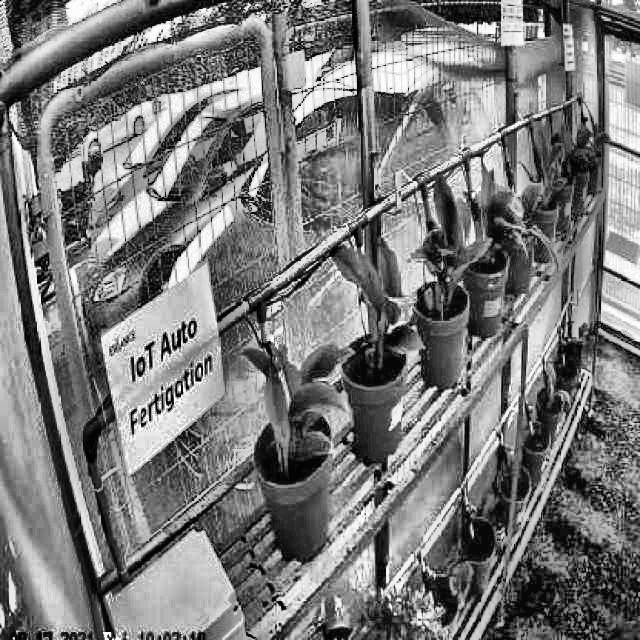plants: (241, 334, 345, 468), (331, 235, 424, 380), (409, 174, 491, 320), (478, 174, 560, 276), (441, 163, 514, 274)
